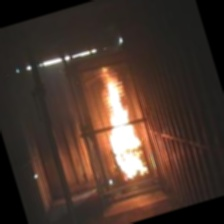fire: (90, 68, 155, 180)
